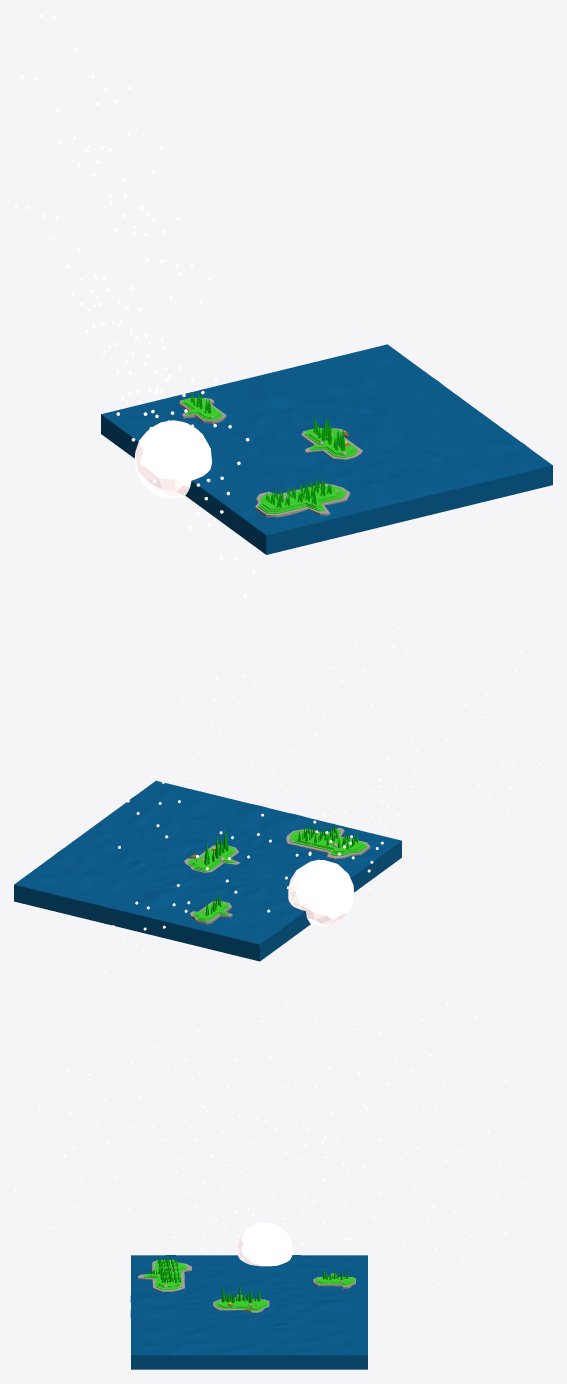
The model's file is isla_low_poly.glb.
3 views of the same model, one above another, from view 1: azimuth 30°, elevation 25°; view 2: azimuth 150°, elevation 25°; view 3: azimuth 270°, elevation 25° (orthographic). The views are drawn at different scales.
Visible parts, largest first — view 1: Cube, luna, roca.023; view 2: Cube, luna, roca.023, Cube.006; view 3: Cube, luna, roca.023.
Boxes of the visible parts, <box> form: Cube: <box>101,344,552,554</box>; luna: <box>134,420,212,498</box>; roca.023: <box>255,483,350,517</box>; Cube: <box>14,780,401,961</box>; luna: <box>288,859,353,926</box>; roca.023: <box>286,827,370,859</box>; Cube.006: <box>190,901,232,924</box>; Cube: <box>130,1255,367,1369</box>; luna: <box>237,1222,293,1266</box>; roca.023: <box>138,1260,191,1291</box>.
Bounding box in the file's own units: 28517 × 25673 × 45672.
